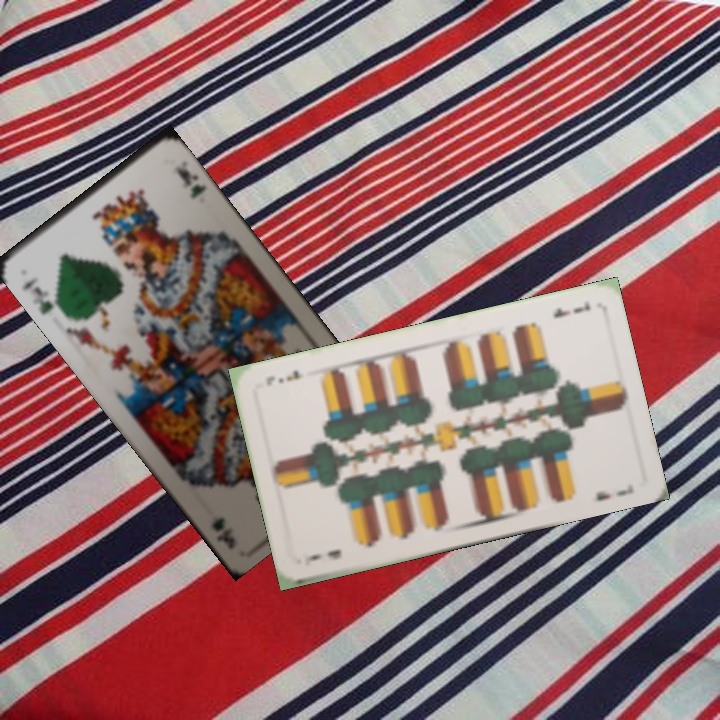E7: (300, 544, 344, 569), (549, 297, 594, 321)
GK: (18, 272, 66, 317)
